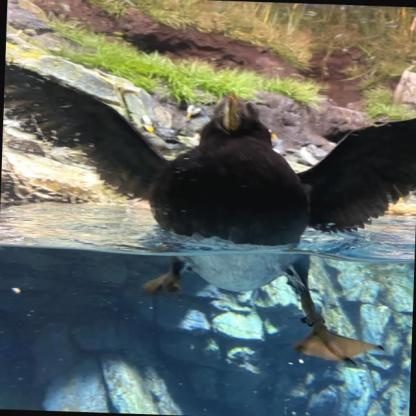puffin: (0, 64, 415, 366), (137, 110, 181, 151), (178, 99, 214, 138)
